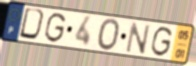4: (72, 14, 93, 50)
D: (17, 6, 48, 43)
G: (149, 25, 174, 58), (43, 12, 68, 45)
N: (125, 20, 152, 56)
O: (96, 17, 121, 53)
